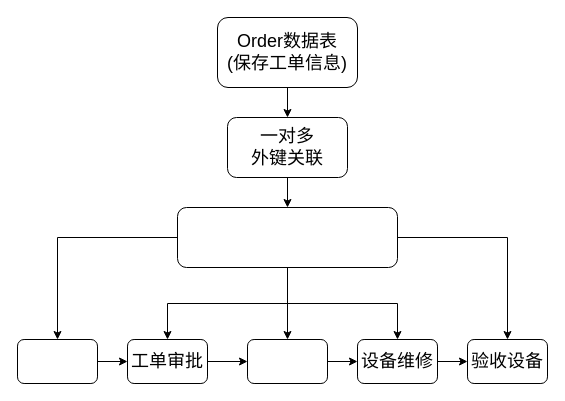
The diagram is 565 pixels wide and 401 high, and some of its shapes have lost their labels. The centre of each missing label's shape, as x and y in pixels:
"OrderNode数据表 （保存每个工单流程信息）" belongs at [287,237].
"创建工单" belongs at [57,361].
"工单派发" belongs at [287,361].
